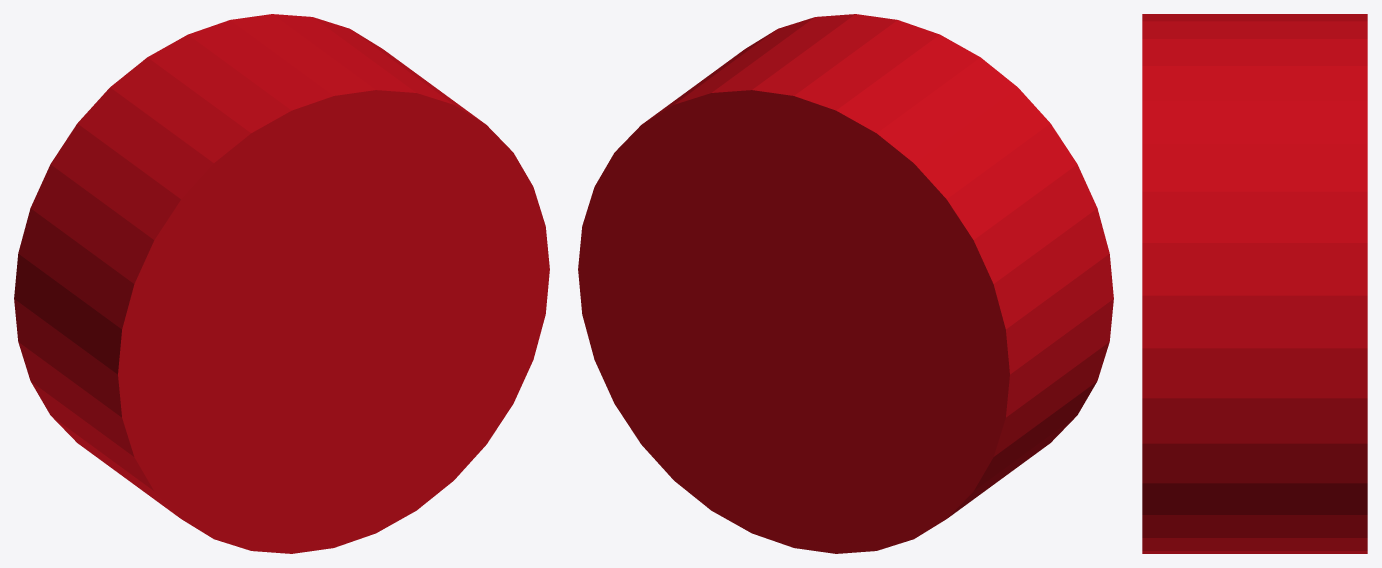
The model's file is test_cyl.obj.
3 renders of one model, left to right at view 1: azimuth 30°, elevation 25°; view 2: azimuth 150°, elevation 25°; view 3: azimuth 270°, elevation 25°, orthographic. The views are drawn at different scales.
Parts seen in each view (by area): view 1: Cylinder; view 2: Cylinder; view 3: Cylinder.
Part boxes in pixels (<box>): Cylinder: <box>14,14,549,553</box>; Cylinder: <box>578,14,1113,553</box>; Cylinder: <box>1142,14,1367,553</box>.
Size of the model in its own units: 0.24 by 0.24 by 0.1.
